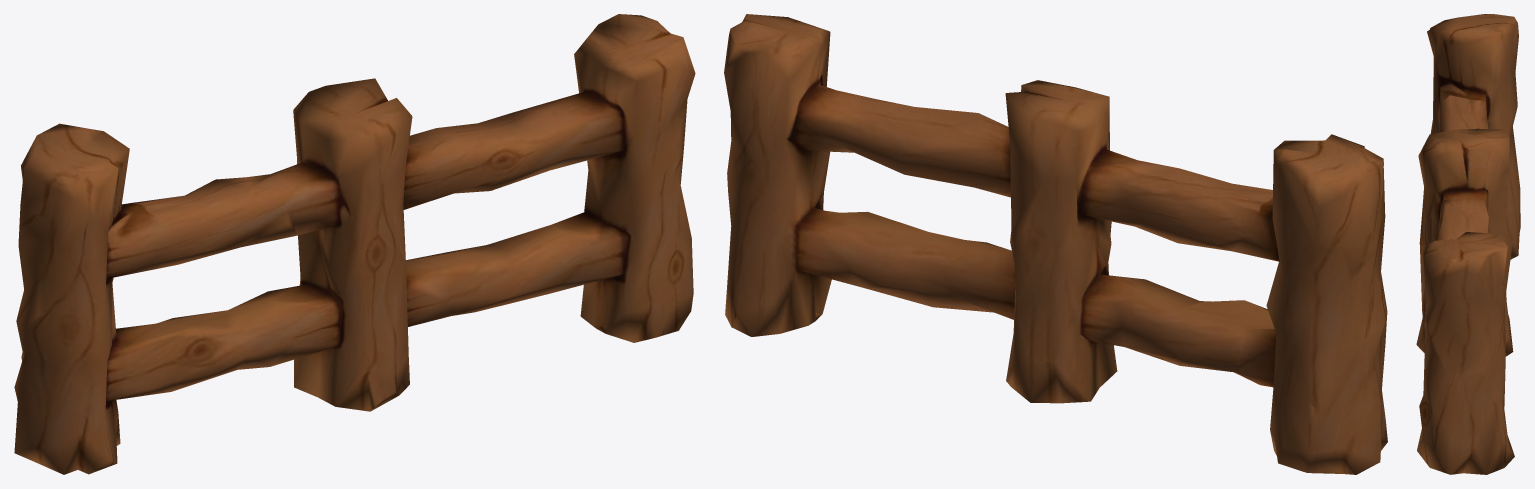
The model's file is fence.glb.
The picture shows the model from 3 angles, left to right: view 1: azimuth 30°, elevation 25°; view 2: azimuth 150°, elevation 25°; view 3: azimuth 270°, elevation 25°; orthographic projection. The views are drawn at different scales.
Visible parts, largest first — view 1: fence; view 2: fence; view 3: fence.
Boxes of the visible parts, x1,y1,x2,y2 form: fence: [14, 14, 695, 474]; fence: [724, 14, 1387, 474]; fence: [1416, 14, 1520, 474].
Size of the model in its own units: 3 by 1.33 by 0.5343.
1 material, 1 textured.
